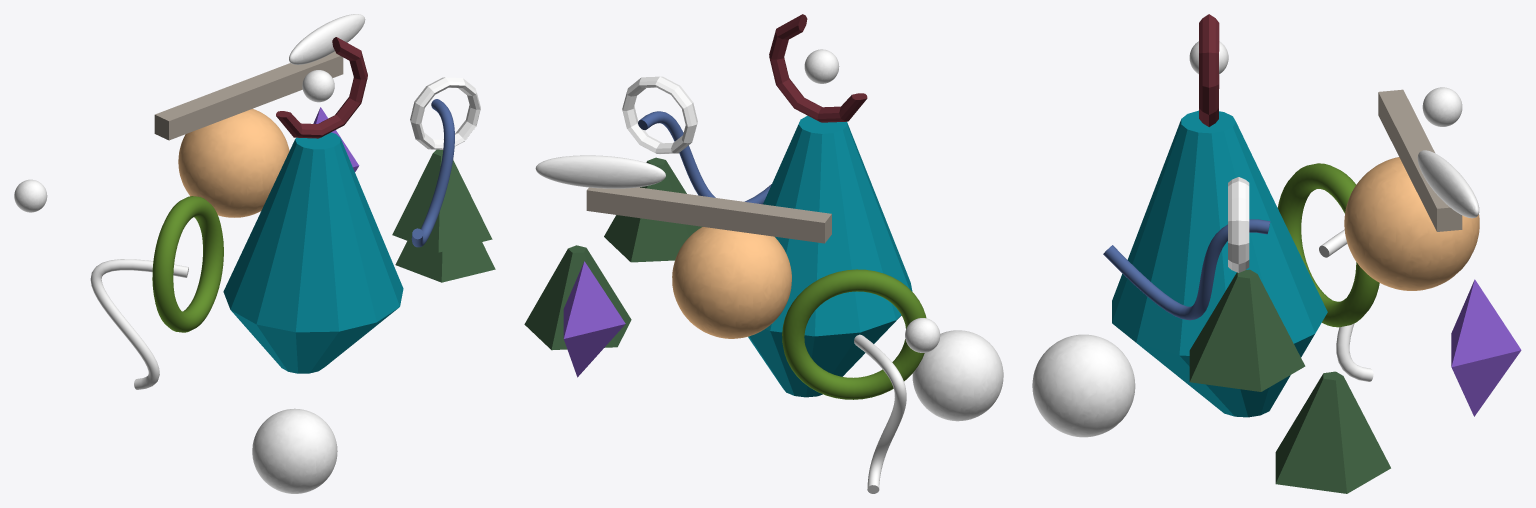
3 renders of one model, left to right at view 1: azimuth 30°, elevation 25°; view 2: azimuth 150°, elevation 25°; view 3: azimuth 270°, elevation 25°, orthographic. The views are drawn at different scales.
Parts seen in each view (by area): view 1: Cylinder.002, Sphere_pink, Circle, Sphere_pink_lil.001, Cube, Cylinder, Cylinder.001, BezierCurve.001, Torus_half, Torus, BezierCurve, Sphere_pink_lil.002 (+2 smaller); view 2: Cylinder.002, Sphere_pink, Circle, Cube, Sphere_pink_lil.001, Cone, Cylinder.001, Cylinder, Sphere_pink_lil.002, Torus_half, Torus, BezierCurve.001 (+3 smaller); view 3: Cylinder.002, Sphere_pink, Cylinder.001, Cylinder, Sphere_pink_lil.001, Cone, Circle, Cube, BezierCurve, Torus_half, Sphere_pink_lil.002, Torus (+2 smaller).
Part boxes in pixels (bbox=[...]): Cylinder.002: bbox=[223, 132, 403, 373]; Sphere_pink: bbox=[178, 108, 289, 217]; Circle: bbox=[152, 196, 223, 332]; Sphere_pink_lil.001: bbox=[252, 408, 337, 493]; Cube: bbox=[154, 51, 343, 140]; Cylinder: bbox=[392, 149, 492, 252]; Cylinder.001: bbox=[395, 241, 495, 282]; BezierCurve.001: bbox=[90, 259, 188, 389]; Torus_half: bbox=[276, 37, 367, 138]; Torus: bbox=[410, 77, 480, 149]; BezierCurve: bbox=[411, 99, 454, 247]; Sphere_pink_lil.002: bbox=[289, 14, 365, 64]; Cylinder.002: bbox=[748, 115, 912, 397]; Sphere_pink: bbox=[672, 227, 791, 338]; Circle: bbox=[782, 269, 926, 399]; Cube: bbox=[586, 187, 831, 243]; Sphere_pink_lil.001: bbox=[912, 330, 1003, 421]; Cone: bbox=[563, 261, 625, 377]; Cylinder.001: bbox=[524, 245, 631, 350]; Cylinder: bbox=[604, 157, 702, 262]; Sphere_pink_lil.002: bbox=[535, 155, 665, 188]; Torus_half: bbox=[769, 14, 867, 122]; Torus: bbox=[622, 76, 697, 153]; BezierCurve.001: bbox=[854, 334, 906, 493]; Cylinder.002: bbox=[1112, 110, 1327, 417]; Sphere_pink: bbox=[1344, 157, 1479, 290]; Cylinder.001: bbox=[1275, 371, 1390, 493]; Cylinder: bbox=[1189, 269, 1305, 391]; Sphere_pink_lil.001: bbox=[1032, 334, 1135, 437]; Cone: bbox=[1451, 279, 1521, 416]; Circle: bbox=[1277, 163, 1379, 327]; Cube: bbox=[1378, 89, 1462, 231]; BezierCurve: bbox=[1103, 219, 1270, 320]; Torus_half: bbox=[1199, 14, 1219, 126]; Sphere_pink_lil.002: bbox=[1417, 150, 1479, 218]; Torus: bbox=[1228, 177, 1249, 272].
Size of the model in its own units: 2.31 by 2.03 by 1.9.
